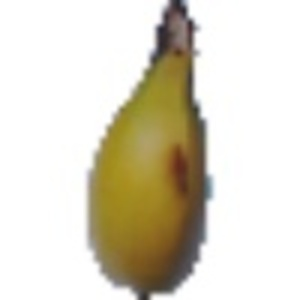banana: (75, 3, 225, 289)
